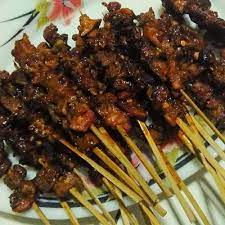sate: (1, 1, 225, 204)
